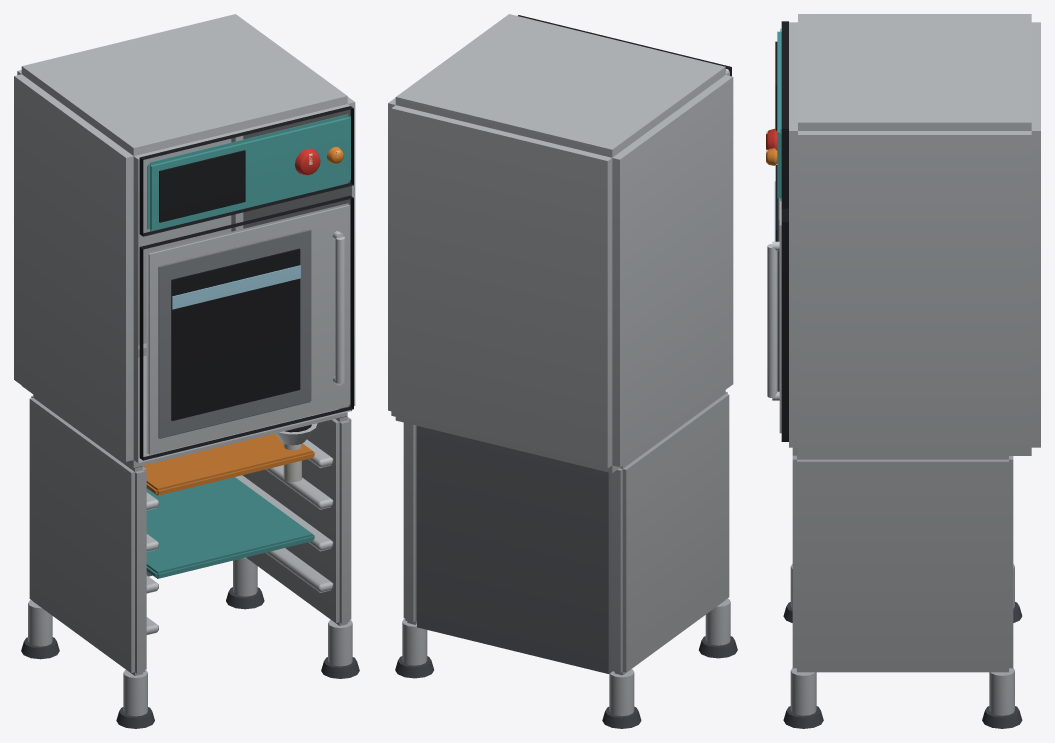
File: SM_Oven_Combi_075.glb
3 views of the same model, side by side, from view 1: azimuth 30°, elevation 25°; view 2: azimuth 150°, elevation 25°; view 3: azimuth 270°, elevation 25° (orthographic). The views are drawn at different scales.
Parts seen in each view (by area): view 1: SM_Oven_Combi_075; view 2: SM_Oven_Combi_075; view 3: SM_Oven_Combi_075.
Boxes of the visible parts, <box> form: SM_Oven_Combi_075: <box>14,14,359,728</box>; SM_Oven_Combi_075: <box>388,14,737,728</box>; SM_Oven_Combi_075: <box>766,14,1040,728</box>.
Size of the model in its own units: 0.78 by 1.8 by 0.747.
1 material, 1 textured.
